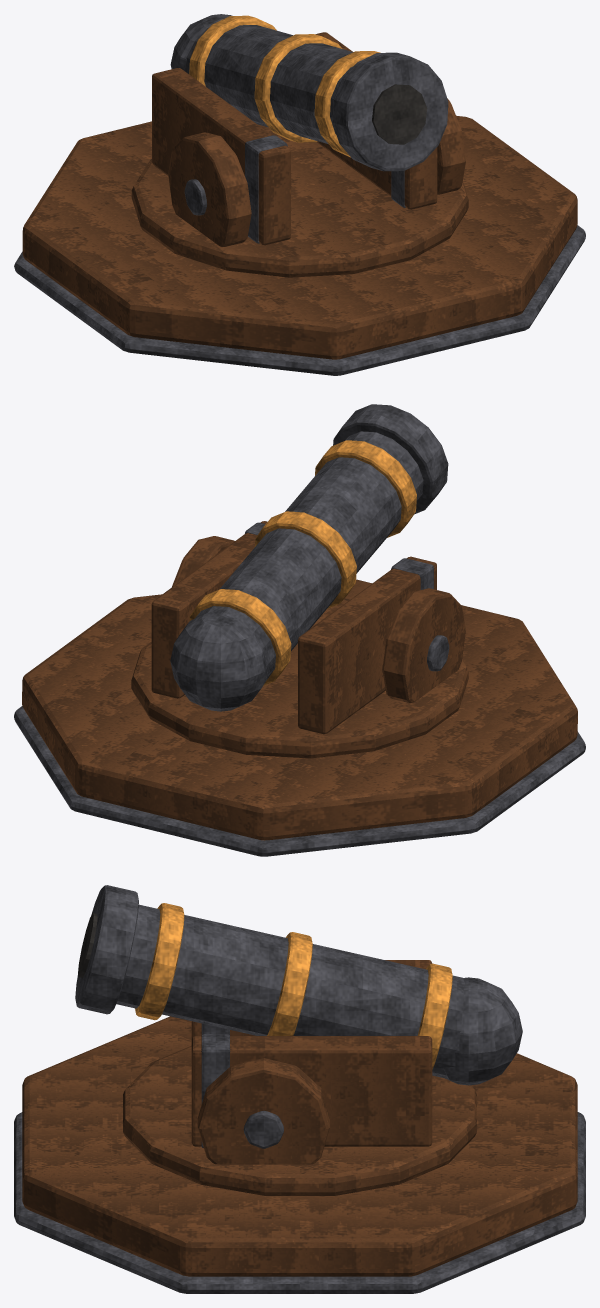
File: weapon_siege.glb
3 renders of one model, top to bottom at view 1: azimuth 30°, elevation 25°; view 2: azimuth 150°, elevation 25°; view 3: azimuth 270°, elevation 25°, orthographic. The views are drawn at different scales.
Parts seen in each view (by area): view 1: platform, turntable, platform_rim, cheek-1, barrel, muzzle, wheel-1, bore, cheek1, band1, wheel1, band2 (+4 smaller); view 2: platform, barrel, turntable, cheek-1, platform_rim, cascabel, wheel-1, cheek1, muzzle, band1, band2, band0 (+3 smaller); view 3: platform, barrel, turntable, cheek1, platform_rim, wheel1, cascabel, muzzle, band2, band1, band0, cheek_band1 (+2 smaller).
Boxes of the visible parts, left/top/right/bottom form: platform: left=22, top=115, right=577, bottom=359; turntable: left=131, top=124, right=468, bottom=277; platform_rim: left=14, top=225, right=585, bottom=375; cheek-1: left=152, top=68, right=290, bottom=245; barrel: left=185, top=25, right=353, bottom=144; muzzle: left=332, top=52, right=448, bottom=171; wheel-1: left=168, top=132, right=251, bottom=246; bore: left=372, top=84, right=427, bottom=144; cheek1: left=315, top=32, right=437, bottom=209; band1: left=254, top=34, right=342, bottom=142; wheel1: left=437, top=98, right=465, bottom=194; band2: left=314, top=51, right=380, bottom=157; platform: left=22, top=579, right=577, bottom=840; barrel: left=195, top=431, right=423, bottom=679; turntable: left=131, top=603, right=468, bottom=758; cheek-1: left=298, top=556, right=436, bottom=734; platform_rim: left=14, top=706, right=585, bottom=856; cascabel: left=170, top=613, right=267, bottom=711; wheel-1: left=382, top=588, right=465, bottom=702; cheek1: left=151, top=521, right=267, bottom=698; muzzle: left=333, top=404, right=448, bottom=514; band1: left=254, top=511, right=356, bottom=608; band2: left=315, top=440, right=416, bottom=537; band0: left=189, top=589, right=291, bottom=685; platform: left=22, top=1016, right=577, bottom=1276; barrel: left=116, top=904, right=465, bottom=1078; turntable: left=123, top=1045, right=476, bottom=1195; cheek1: left=191, top=1036, right=432, bottom=1146; platform_rim: left=14, top=1112, right=585, bottom=1293; wheel1: left=197, top=1058, right=329, bottom=1164; cascabel: left=441, top=977, right=522, bottom=1085; muzzle: left=75, top=885, right=138, bottom=1014; band2: left=135, top=903, right=184, bottom=1020; band1: left=267, top=932, right=312, bottom=1035; band0: left=417, top=963, right=452, bottom=1069; cheek_band1: left=201, top=1034, right=230, bottom=1147.
Bounding box in the file's own units: 0.9516 × 0.5227 × 0.9516.
4 materials, 4 textured.
